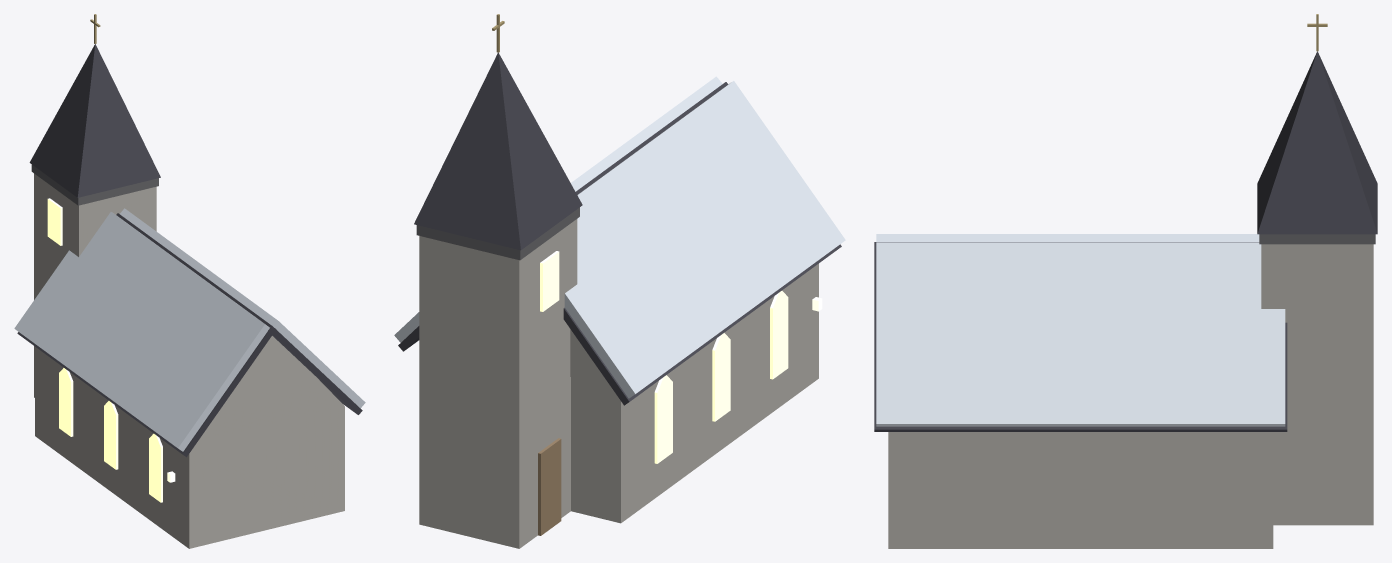
The model's file is chapel.glb.
3 views of the same model, side by side, from view 1: azimuth 30°, elevation 25°; view 2: azimuth 150°, elevation 25°; view 3: azimuth 270°, elevation 25° (orthographic). The views are drawn at different scales.
Parts seen in each view (by area): view 1: chapel; view 2: chapel; view 3: chapel.
Boxes of the visible parts, x1,y1,x2,y2 form: chapel: (14,14,365,548); chapel: (394,14,845,548); chapel: (874,14,1377,548).
Bounding box in the file's own units: 6.76 × 13.4 × 12.55.
